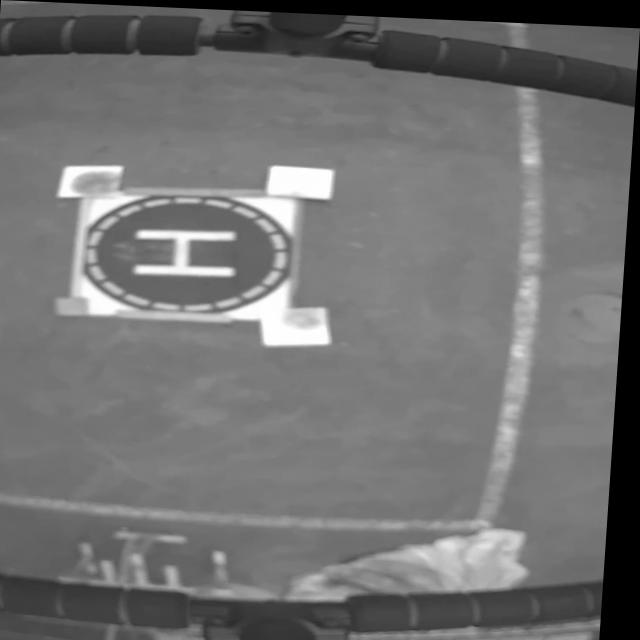Helipad: (134, 227, 240, 277)
